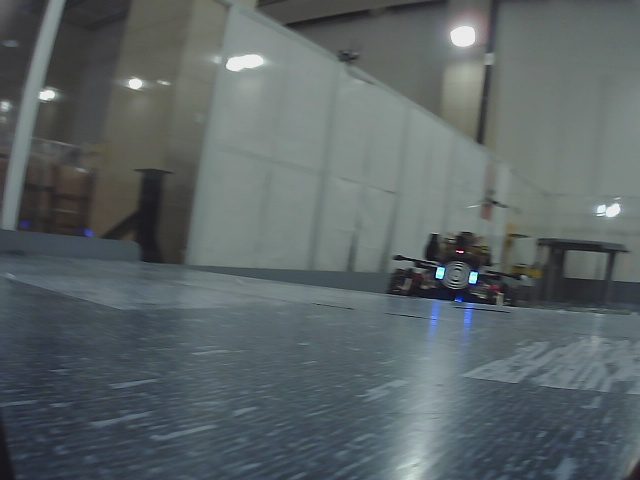pair: (435, 266, 478, 284)
